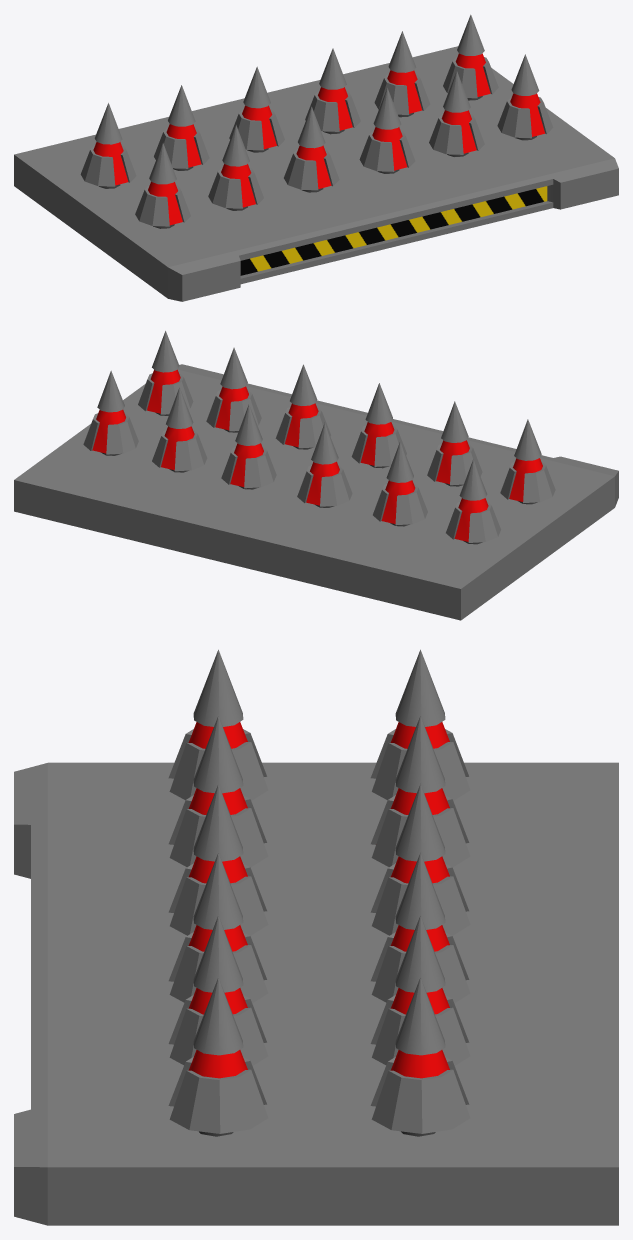
Rendered from spike platform.FBX.
3 renders of one model, top to bottom at view 1: azimuth 30°, elevation 25°; view 2: azimuth 150°, elevation 25°; view 3: azimuth 270°, elevation 25°, orthographic. The views are drawn at different scales.
Parts seen in each view (by area): view 1: Box001, Cone004, Cone003, Cone009, Cone013, Cone011, Cone007, Cone005, Cone008, Cone010, Cone006, Cone012 (+1 smaller); view 2: Box001, Cone003, Cone008, Cone014, Cone010, Cone012, Cone006, Cone004, Cone009, Cone007, Cone005, Cone011 (+1 smaller); view 3: Box001, Cone013, Cone014, Cone008, Cone007, Cone006, Cone005, Cone004, Cone003, Cone009, Cone010, Cone011 (+1 smaller).
Part boxes in pixels (x1=…): Box001: x1=14, y1=46, x2=618, y2=301; Cone004: x1=80, y1=103, x2=136, y2=188; Cone003: x1=135, y1=143, x2=190, y2=228; Cone009: x1=359, y1=88, x2=415, y2=173; Cone013: x1=497, y1=54, x2=553, y2=140; Cone011: x1=429, y1=71, x2=484, y2=156; Cone007: x1=284, y1=106, x2=339, y2=192; Cone005: x1=208, y1=125, x2=263, y2=210; Cone008: x1=229, y1=66, x2=284, y2=152; Cone010: x1=305, y1=48, x2=360, y2=134; Cone006: x1=154, y1=85, x2=209, y2=170; Cone012: x1=374, y1=31, x2=430, y2=117; Box001: x1=14, y1=364, x2=618, y2=620; Cone003: x1=500, y1=419, x2=555, y2=504; Cone008: x1=297, y1=422, x2=352, y2=507; Cone014: x1=83, y1=370, x2=138, y2=455; Cone010: x1=221, y1=404, x2=276, y2=489; Cone012: x1=152, y1=387, x2=207, y2=472; Cone006: x1=373, y1=441, x2=427, y2=526; Cone004: x1=446, y1=459, x2=500, y2=544; Cone009: x1=275, y1=364, x2=330, y2=449; Cone007: x1=351, y1=383, x2=406, y2=468; Cone005: x1=427, y1=401, x2=482, y2=486; Cone011: x1=206, y1=347, x2=261, y2=432; Box001: x1=14, y1=762, x2=618, y2=1225; Cone013: x1=168, y1=977, x2=268, y2=1136; Cone014: x1=370, y1=977, x2=470, y2=1136; Cone008: x1=370, y1=784, x2=470, y2=935; Cone007: x1=168, y1=784, x2=268, y2=935; Cone006: x1=371, y1=716, x2=470, y2=867; Cone005: x1=168, y1=716, x2=268, y2=867; Cone004: x1=370, y1=649, x2=470, y2=800; Cone003: x1=168, y1=649, x2=267, y2=800; Cone009: x1=168, y1=853, x2=268, y2=1002; Cone010: x1=371, y1=852, x2=470, y2=1003; Cone011: x1=168, y1=915, x2=268, y2=1065.
Size of the model in its own units: 45.93 by 11.07 by 29.04.
Materials: 2 (2 with a texture image).
